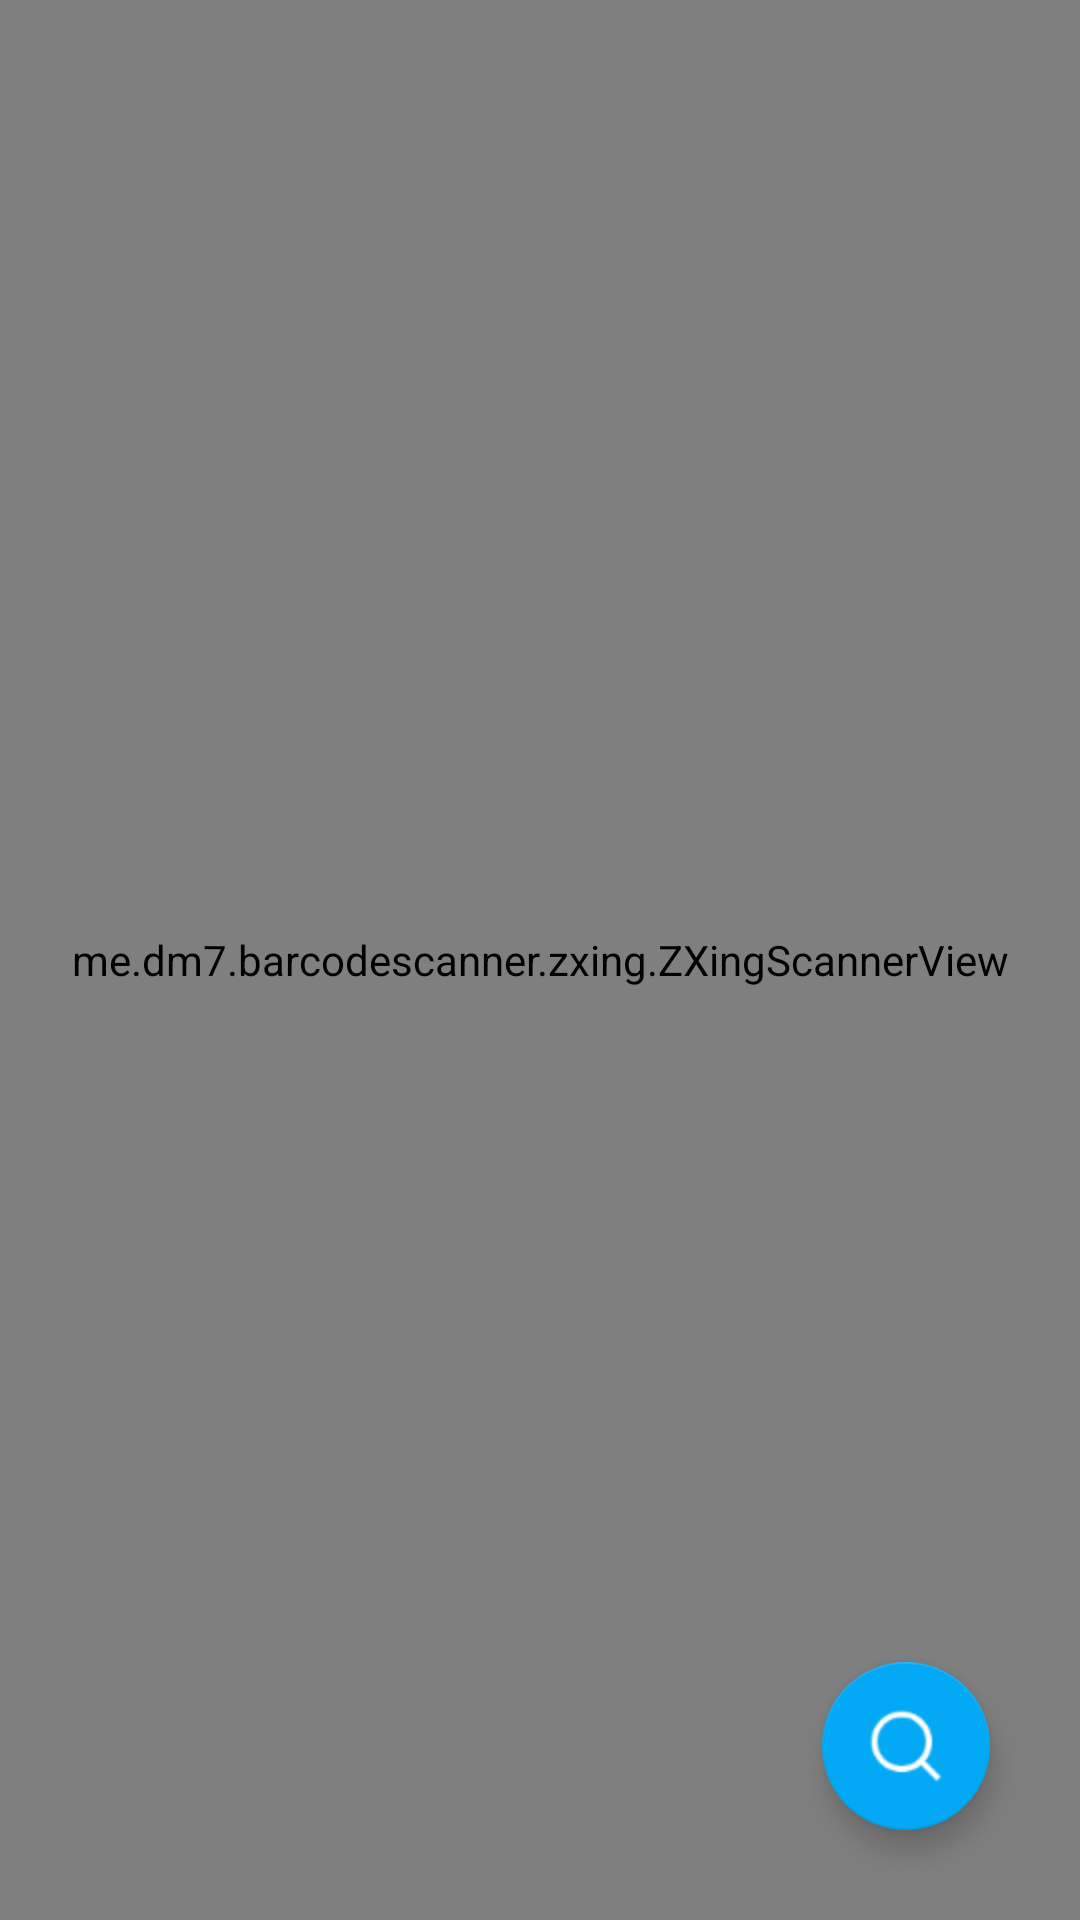

Locate icon controls on the screen. Image size 1080px×1920px, boxes as BBox(x1, y1, x2, y2).
seek: BBox(822, 1662, 990, 1830)
